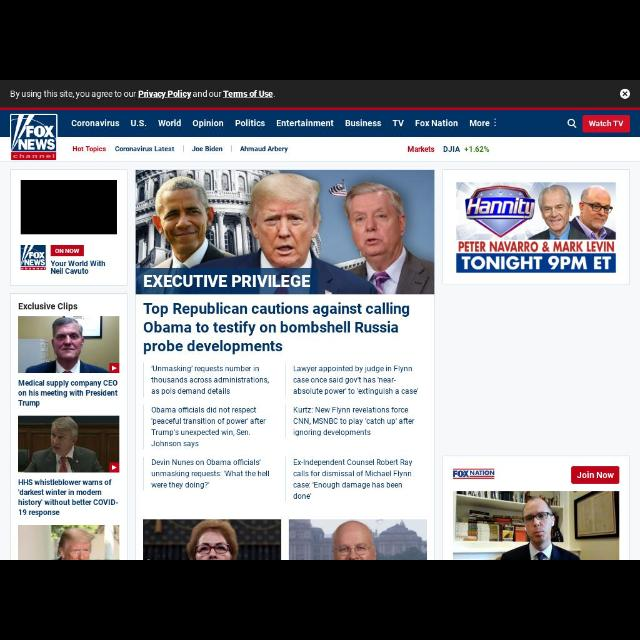button: (620, 88, 630, 99)
icon: (567, 118, 577, 128), (492, 116, 496, 128), (622, 90, 628, 96)
image: (134, 170, 434, 294), (458, 183, 616, 273), (457, 492, 619, 558), (18, 316, 118, 372), (143, 520, 281, 560), (19, 416, 117, 472), (289, 521, 427, 559), (21, 179, 117, 233), (20, 525, 120, 559), (10, 113, 58, 159), (20, 246, 46, 270), (454, 469, 494, 476)
text: (142, 301, 408, 353), (291, 459, 413, 499), (151, 407, 265, 449), (18, 477, 120, 517), (292, 366, 421, 396), (293, 407, 415, 437), (152, 458, 270, 489), (150, 366, 270, 396), (9, 89, 274, 101), (18, 378, 118, 408), (50, 260, 106, 276), (275, 119, 333, 129), (71, 120, 119, 128), (114, 147, 176, 153), (577, 472, 615, 481), (416, 120, 458, 128), (345, 119, 381, 128), (193, 118, 223, 128), (235, 118, 265, 128), (588, 120, 624, 128), (240, 146, 288, 152), (406, 146, 436, 154), (156, 120, 182, 128), (54, 247, 80, 255), (72, 146, 106, 152), (466, 146, 490, 154), (192, 146, 222, 152), (468, 120, 489, 128), (130, 119, 146, 128), (442, 146, 460, 154), (392, 120, 404, 126)
textbutton: (572, 466, 618, 484), (584, 116, 628, 132)
toolbar: (1, 110, 639, 138)
